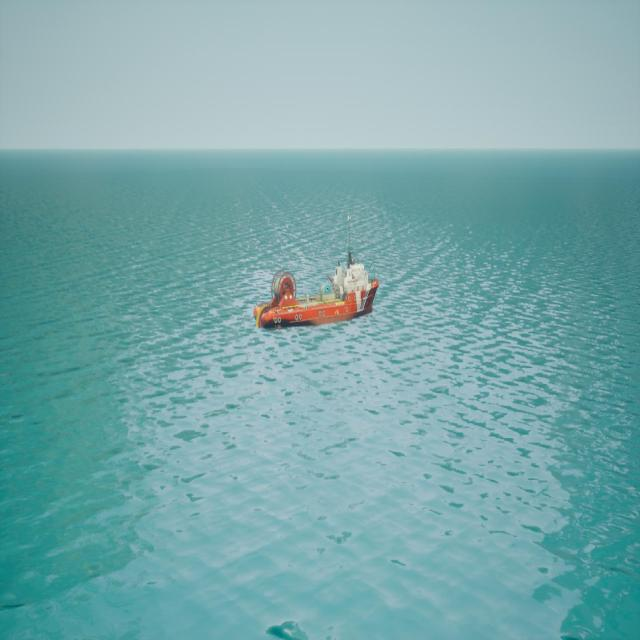tug boat: (255, 265, 385, 331)
